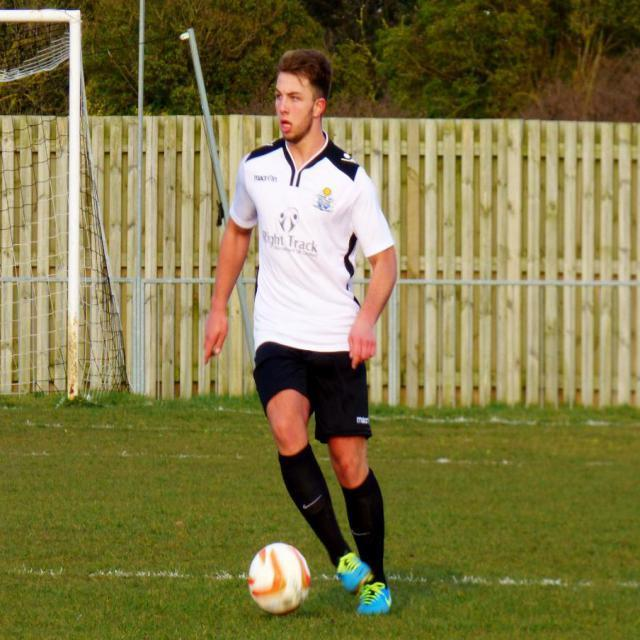football: (238, 536, 329, 634)
